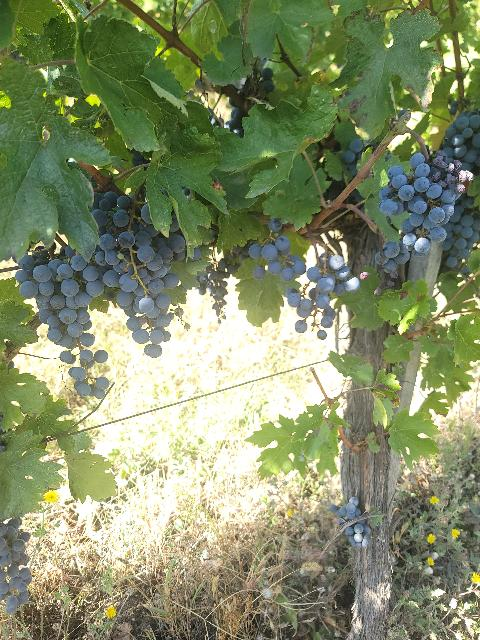grapes: (99, 191, 186, 358), (15, 254, 109, 398), (379, 151, 472, 255), (285, 252, 360, 329)
